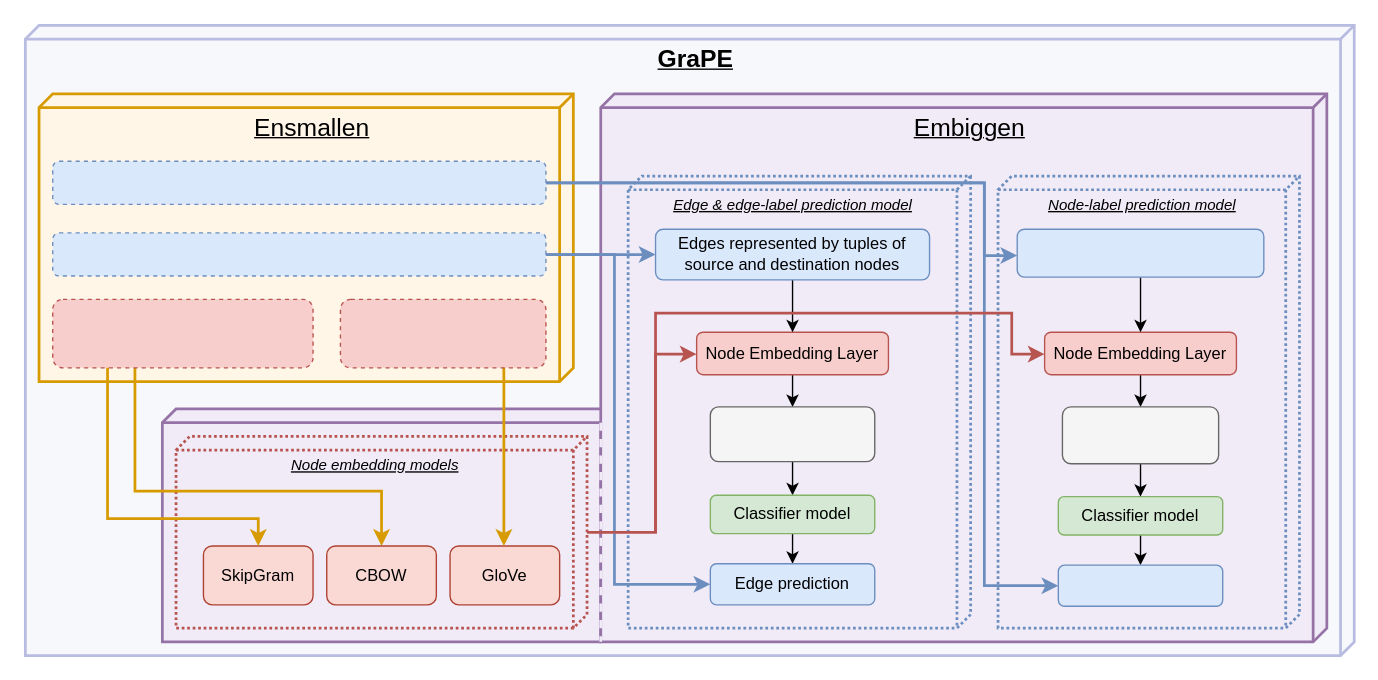
Some shapes in this 1378 by 680 pixel diagram are drawn without their labels. Each missing label, with the centre of its shape:
Co-occurence matrix from random walks: point (442, 333)
Embedded context vector: point (1140, 435)
Embedded edge vector: point (792, 434)
Generation of balanced batches for Edge Prediction: point (298, 254)
Generation of batches for Node Label Prediction: point (298, 182)
Lazy generation of random walk samples for training edge embedding model: point (182, 333)
Node and sub-sampled node neighbours: point (1140, 252)
Node label prediction: point (1140, 585)
